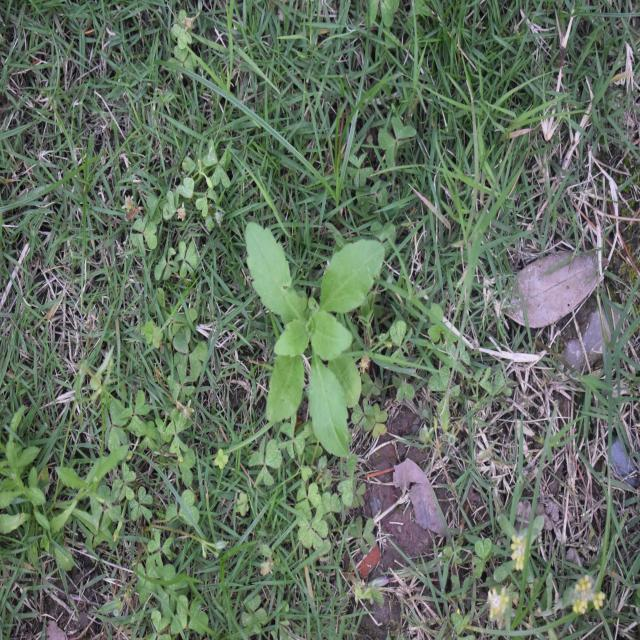horseweed: (224, 210, 392, 460)
